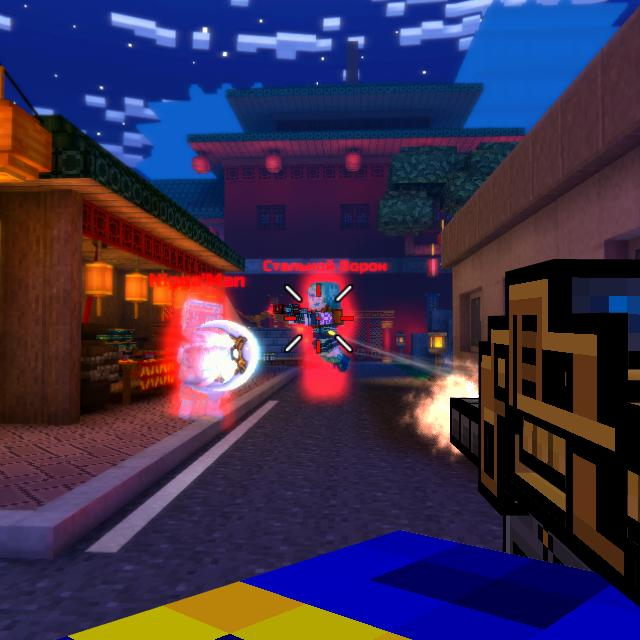Enemy: (178, 296, 238, 419), (299, 281, 353, 374)
